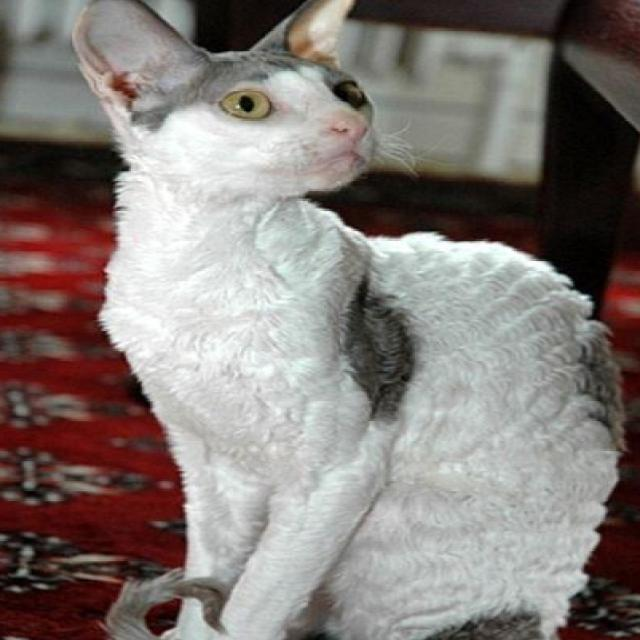Cornish Rex: (59, 0, 635, 640)
